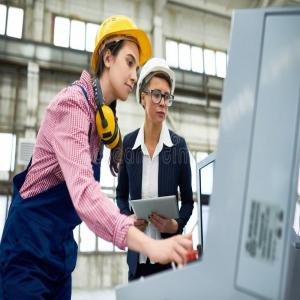white: (136, 56, 177, 128)
yellow: (92, 14, 142, 102)
